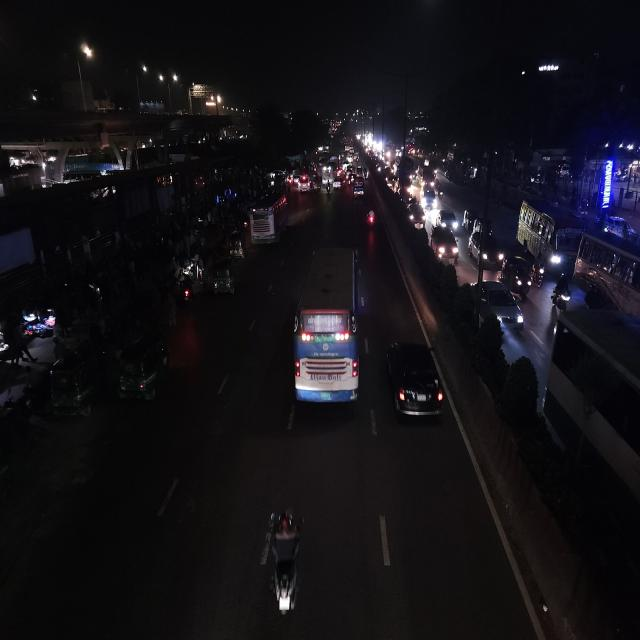bus: (546, 306, 640, 639), (290, 240, 364, 416), (574, 228, 640, 335), (516, 194, 582, 268), (248, 191, 290, 251), (397, 158, 417, 193)
car: (383, 333, 447, 434), (471, 278, 525, 336), (467, 222, 507, 275), (428, 223, 459, 268), (408, 198, 426, 231), (436, 207, 458, 232), (422, 187, 438, 210), (296, 174, 310, 193), (352, 181, 365, 200), (333, 175, 342, 190)
cng: (111, 330, 171, 410), (46, 352, 96, 426), (210, 254, 237, 300), (506, 253, 534, 295), (227, 230, 245, 261)
motorcycle: (256, 504, 312, 626), (550, 271, 570, 310), (176, 266, 194, 307), (364, 205, 378, 234), (326, 179, 333, 194)
truck: (352, 176, 366, 200)
